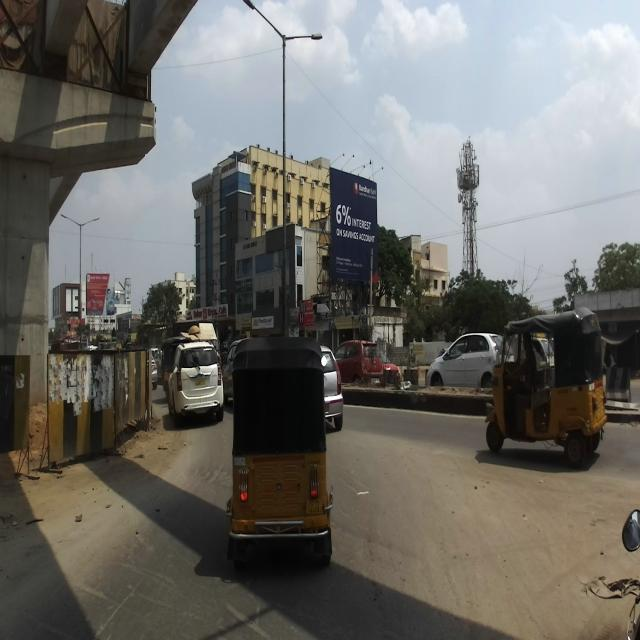Car_Mahindra: (166, 338, 223, 428)
Car_TATA: (424, 333, 502, 388)
autorickshaw: (225, 335, 333, 569), (488, 310, 610, 474), (161, 335, 209, 400)
